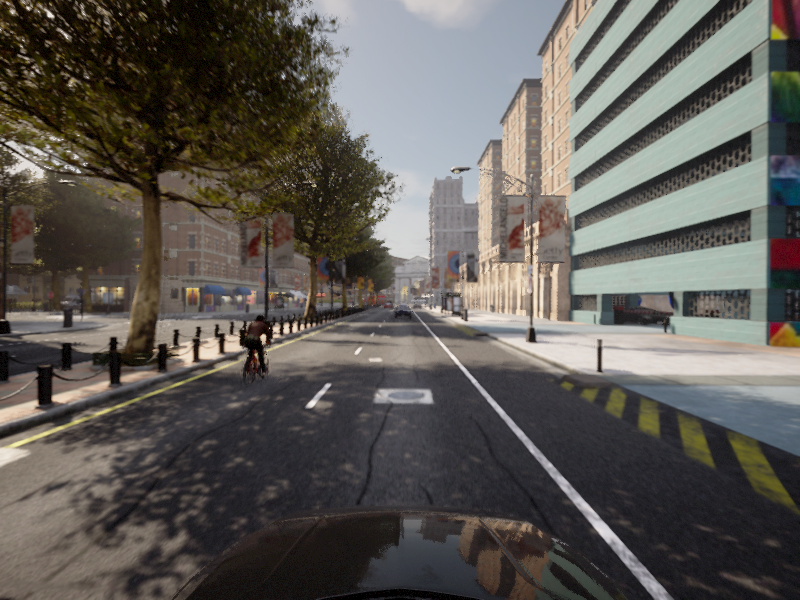vehicle: (230, 314, 280, 390), (394, 305, 411, 318)
